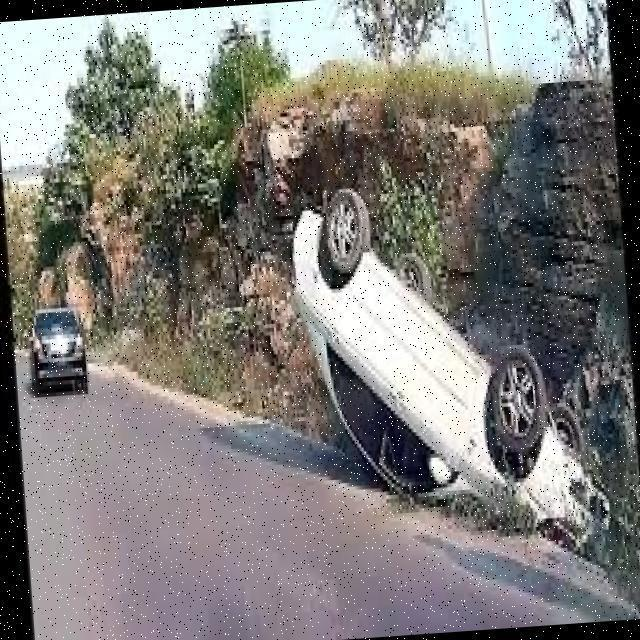accident: (265, 156, 627, 600)
